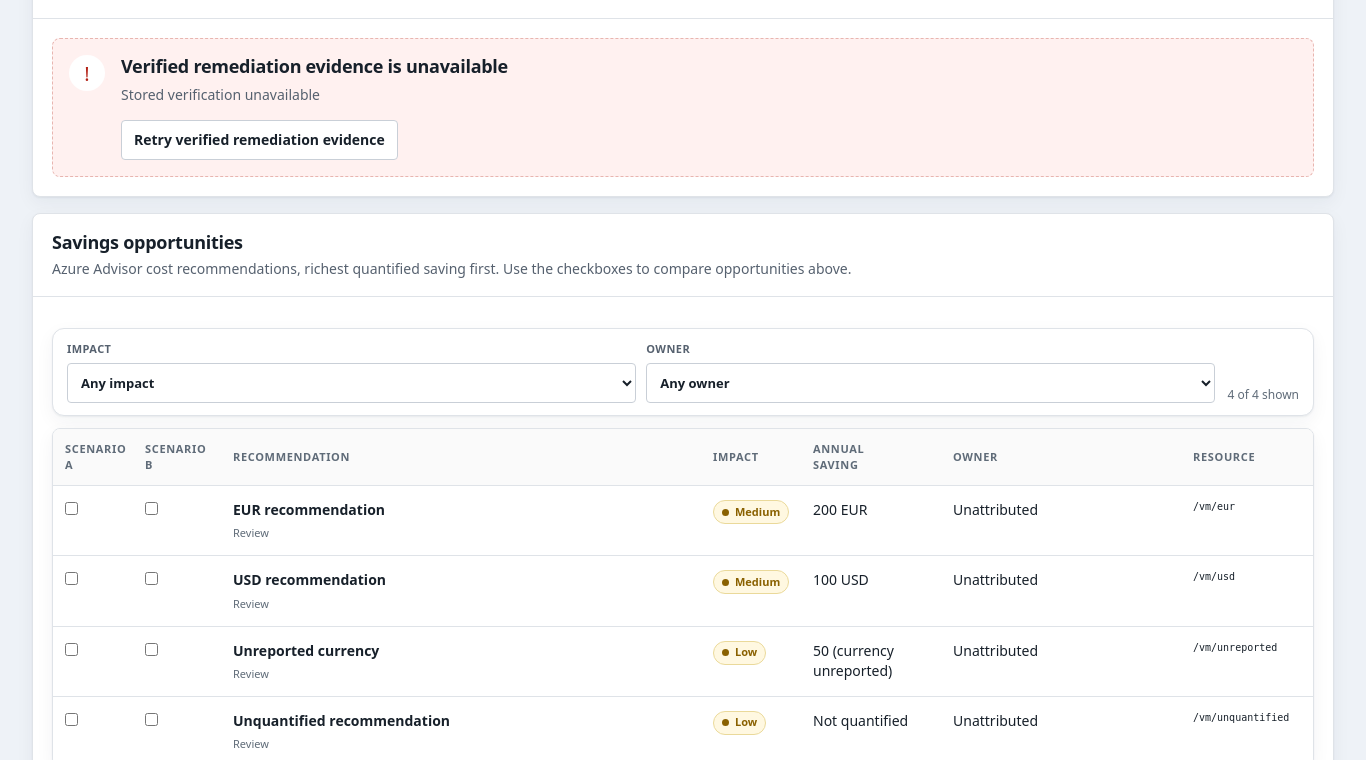
Test: FinOps source recovery › retries verified evidence without resetting healthy charts or opportunity filters
(page scrolled)
Select "Low" in the dropdown named "Filter by Impact" at [352, 383], box [67, 363, 636, 403]
(page scrolled)
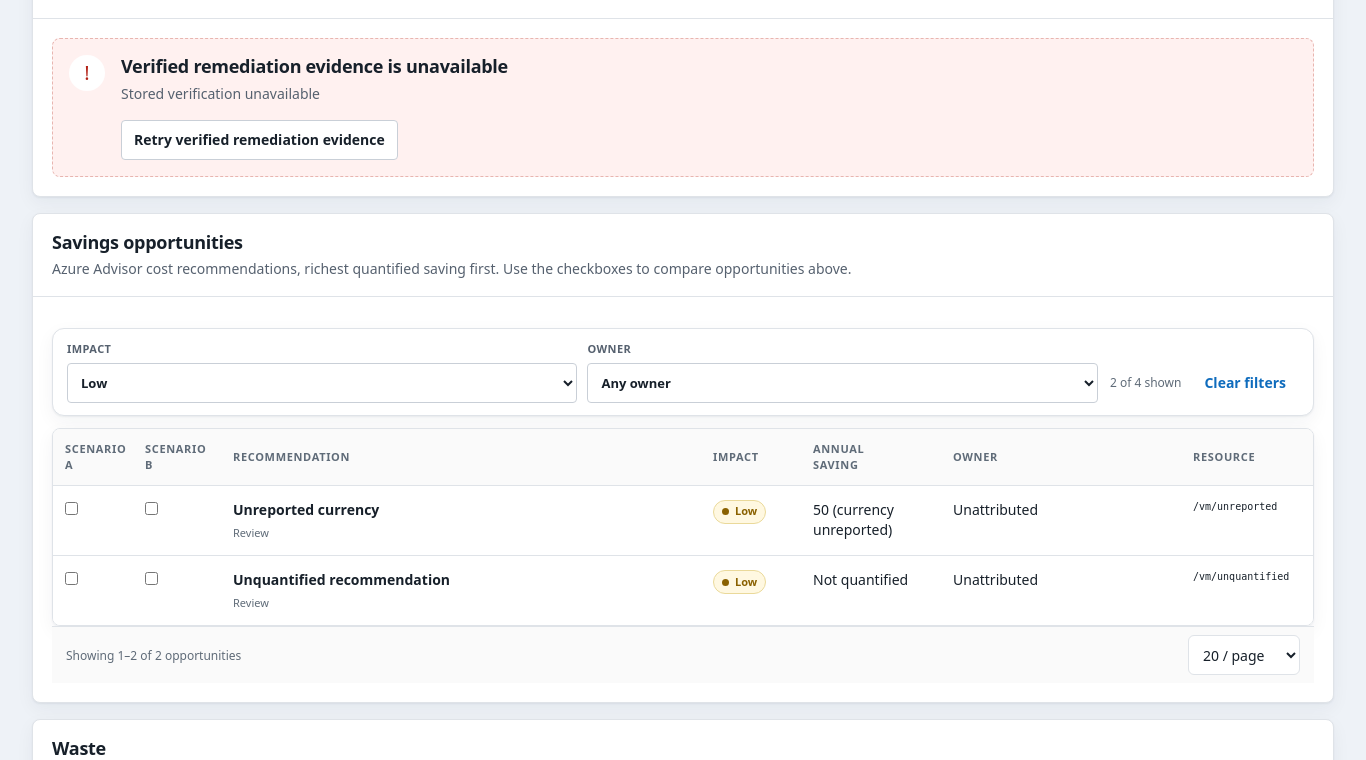
Click the button "Retry verified remediation evidence".
click(259, 140)  # box [121, 120, 398, 160]
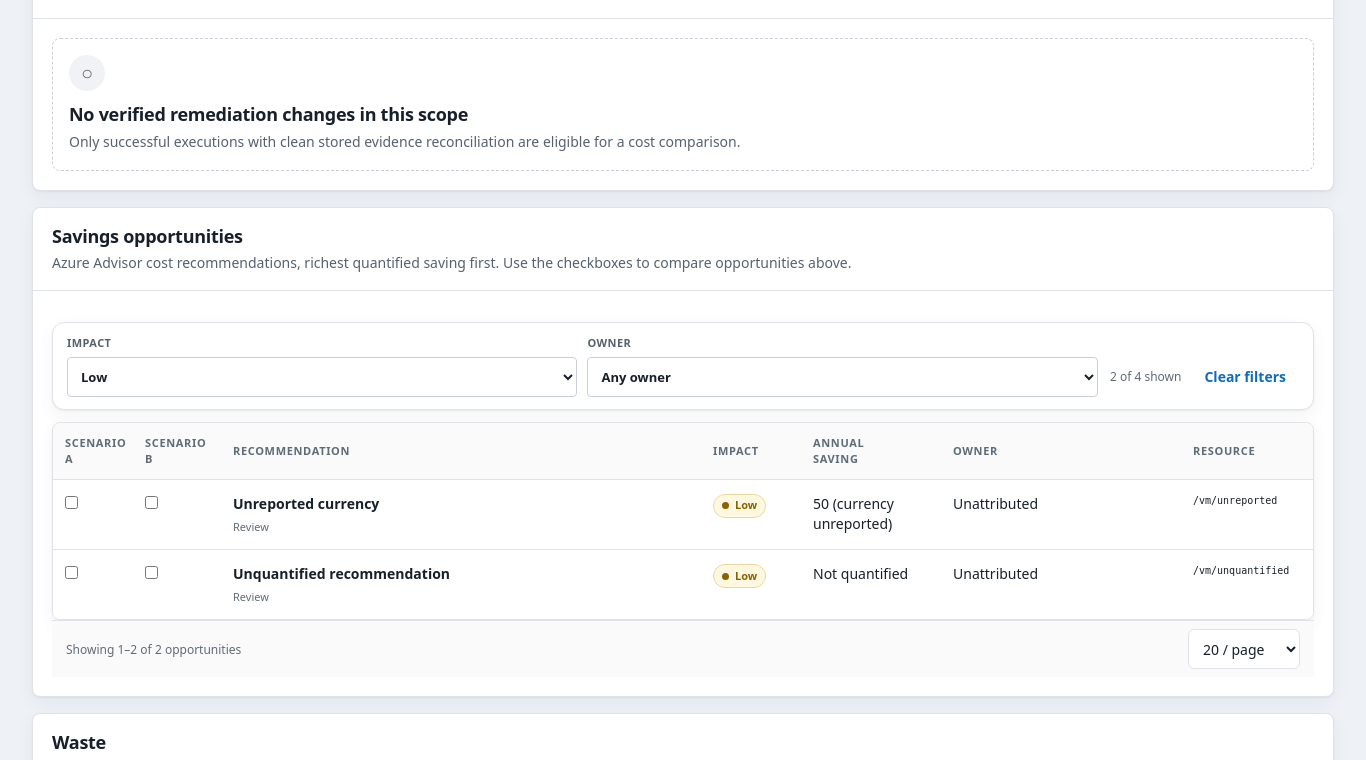
Expected: the heading "No verified remediation changes in this scope" is shown, [69, 103, 468, 126]
